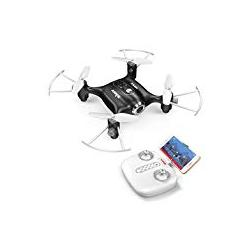drone: (48, 48, 203, 152)
